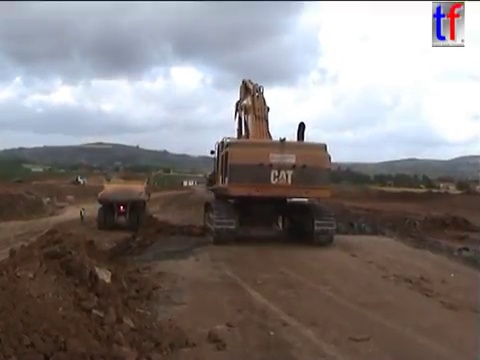excavator: (200, 76, 338, 247)
truck: (95, 174, 151, 231), (71, 174, 89, 187), (474, 183, 480, 196)
worker: (78, 205, 86, 224)
